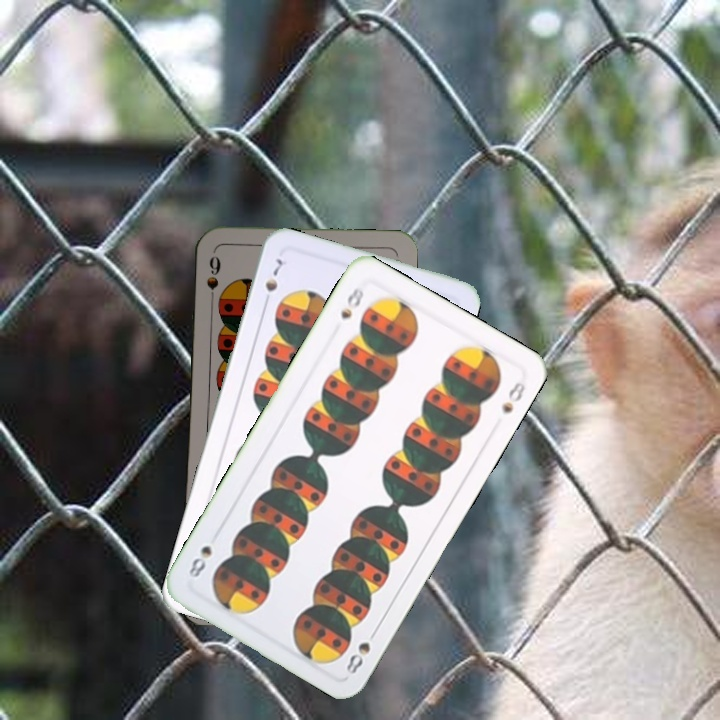S7: (259, 254, 286, 309)
S8: (342, 624, 381, 679), (336, 283, 366, 322)
S9: (202, 252, 223, 309)
